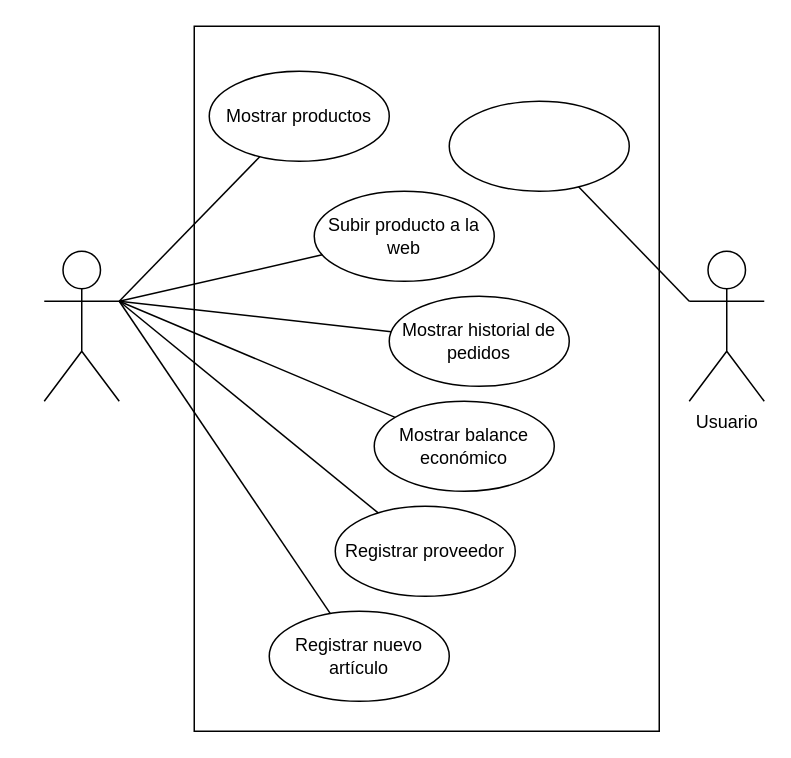
Image size: 791x758. Some labels were removed from this diagram. Each missing label, with the centre of its shape:
"Administrador de ventas" belongs at pixel 81 325.
"Realizar pedido" belongs at pixel 538 145.
